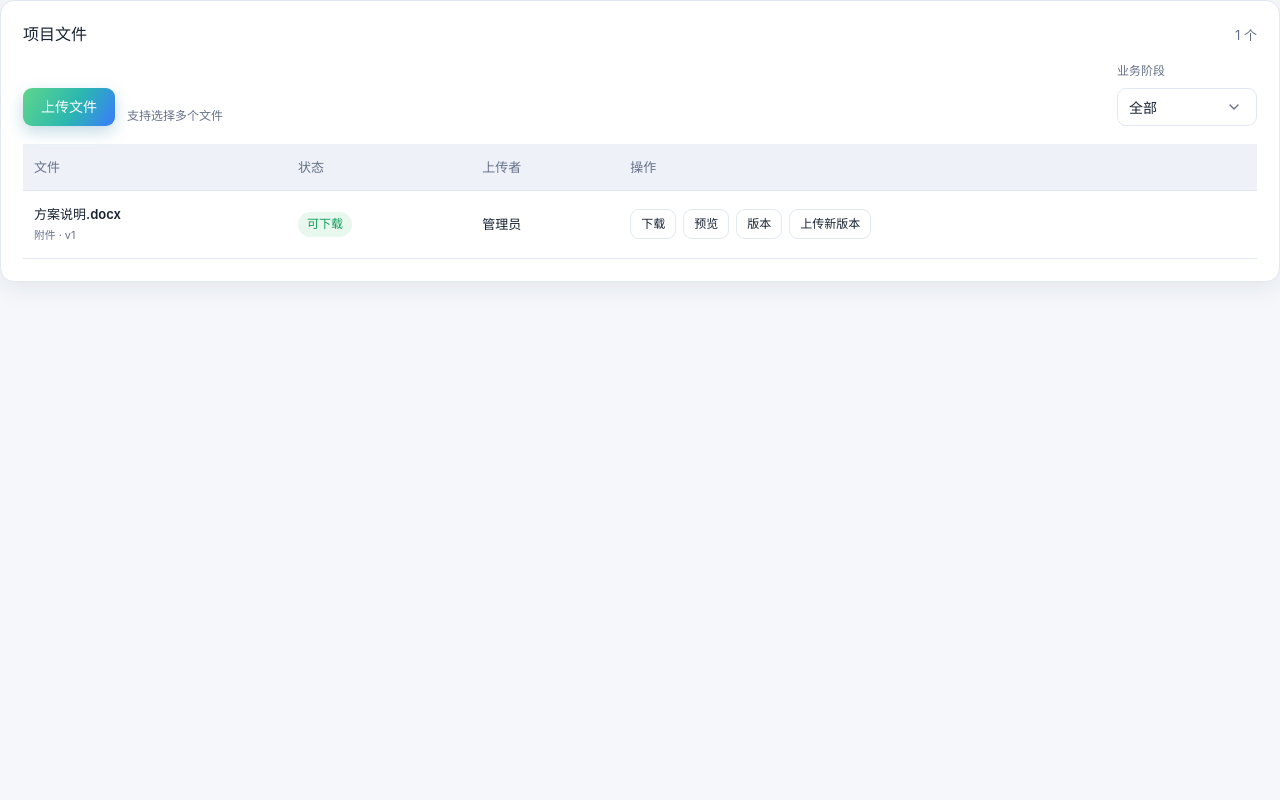
Test case: project files workspace › degrades gracefully when the preview is not available and offers a download link instead of a blank iframe
What coordinates should you click on to do the following:
click the button with aria-label "预览：方案说明.docx"
I would click on:
 (706, 224)
Its box is top-left (683, 209), bottom-right (729, 239).
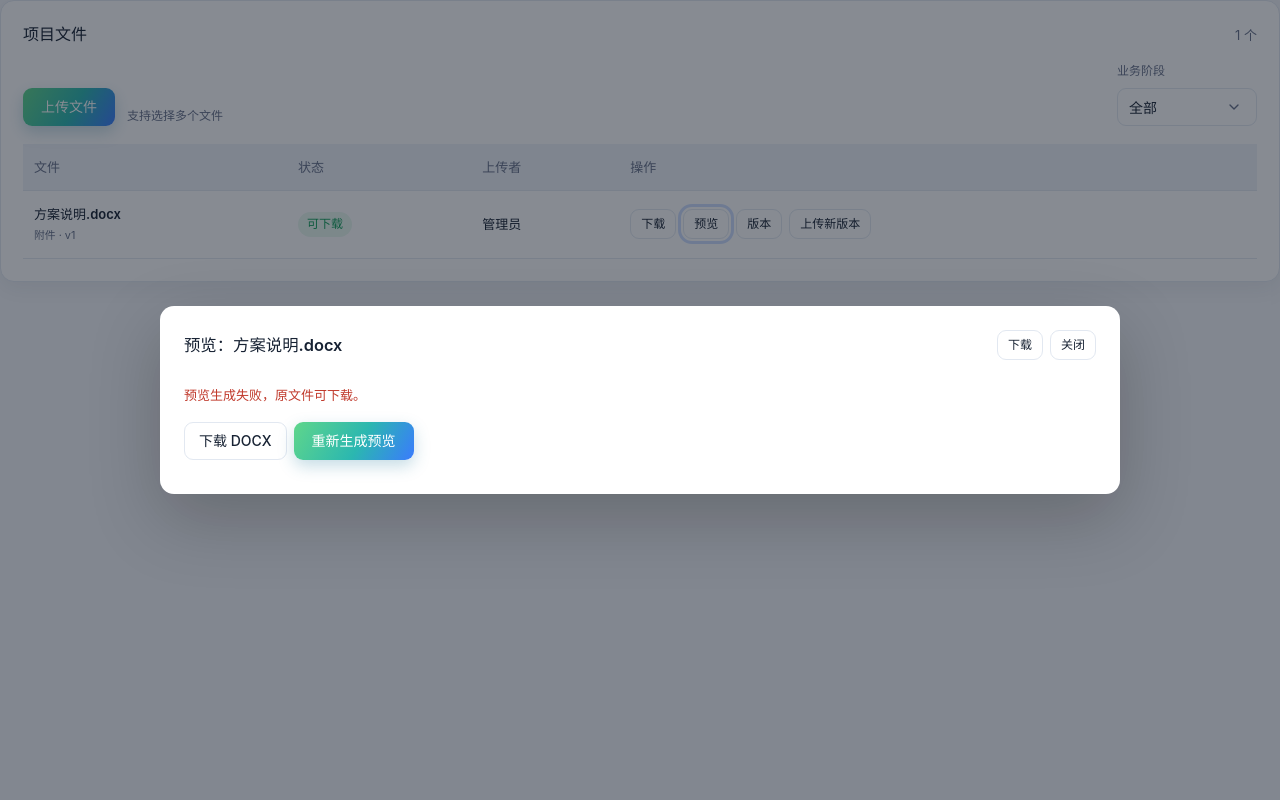
Check: the text "预览生成失败，原文件可下载。" is shown, box top-left (184, 387), bottom-right (366, 403)
Check: the button "下载 DOCX" is shown, box top-left (184, 422), bottom-right (286, 460)
Check: the button "重新生成预览" is shown, box top-left (294, 422), bottom-right (414, 460)
